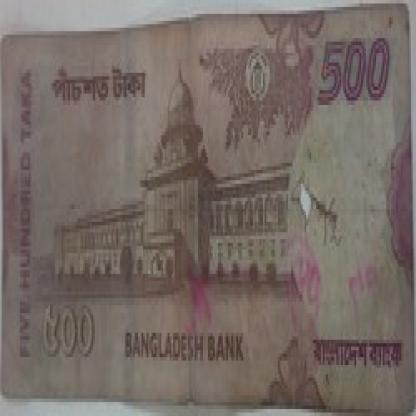500 taka: (316, 38, 398, 121), (43, 70, 165, 114)
currency: (5, 7, 413, 399)
